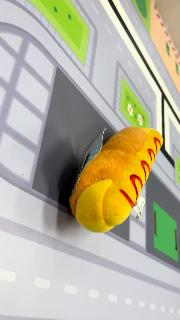hotdog: (68, 126, 164, 234)
